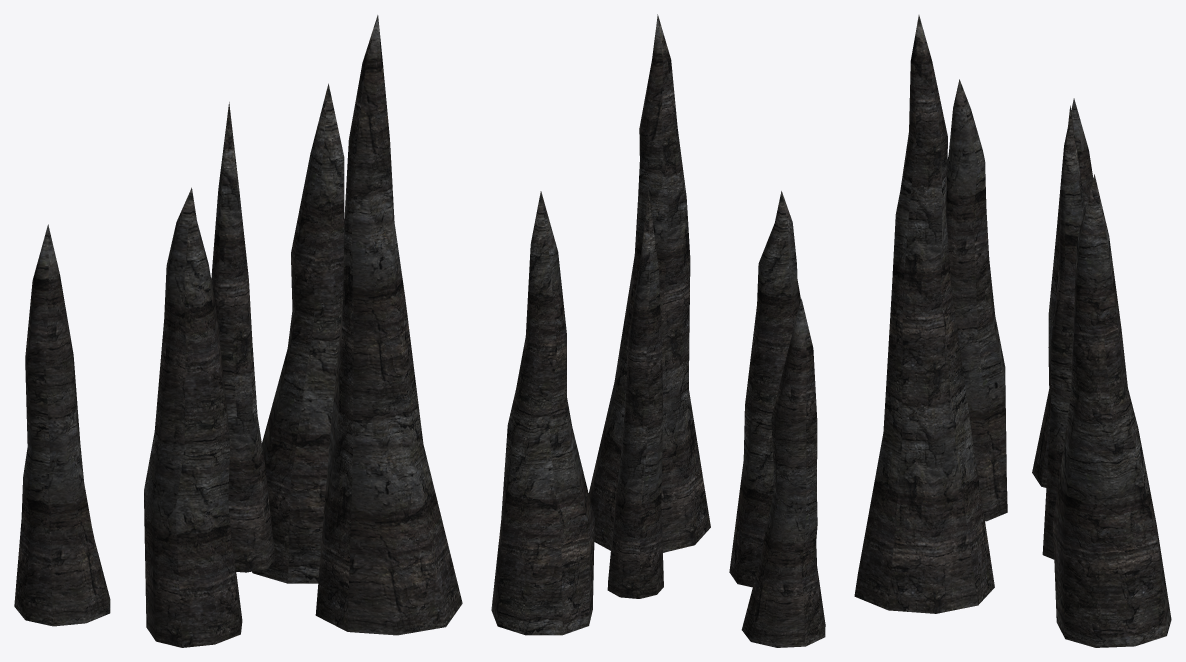
The model's file is mine_stalags_5.glb.
3 views of the same model, side by side, from view 1: azimuth 30°, elevation 25°; view 2: azimuth 150°, elevation 25°; view 3: azimuth 270°, elevation 25° (orthographic). The views are drawn at different scales.
Parts seen in each view (by area): view 1: stalags_5_low; view 2: stalags_5_low; view 3: stalags_5_low.
Part boxes in pixels (x1=…): stalags_5_low: x1=14, y1=15, x2=462, y2=647; stalags_5_low: x1=491, y1=14, x2=825, y2=647; stalags_5_low: x1=854, y1=15, x2=1171, y2=647.
Bounding box in the file's own units: 6.75 × 11.43 × 5.5.
1 material, 1 textured.
